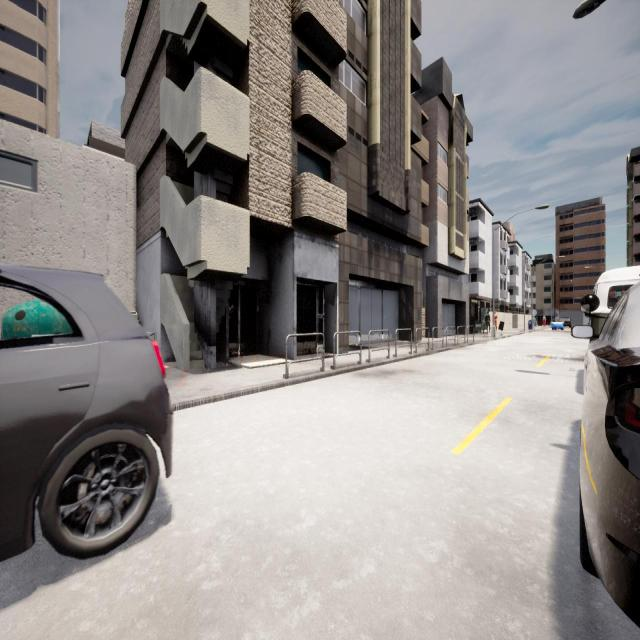Pedestrian: (484, 311, 491, 334), (494, 310, 498, 330), (543, 314, 546, 328)
Traffic_Signs: (532, 309, 537, 316)
Vehicle: (0, 264, 172, 560), (578, 282, 640, 625), (592, 267, 640, 336), (552, 318, 563, 329), (561, 316, 571, 328)
